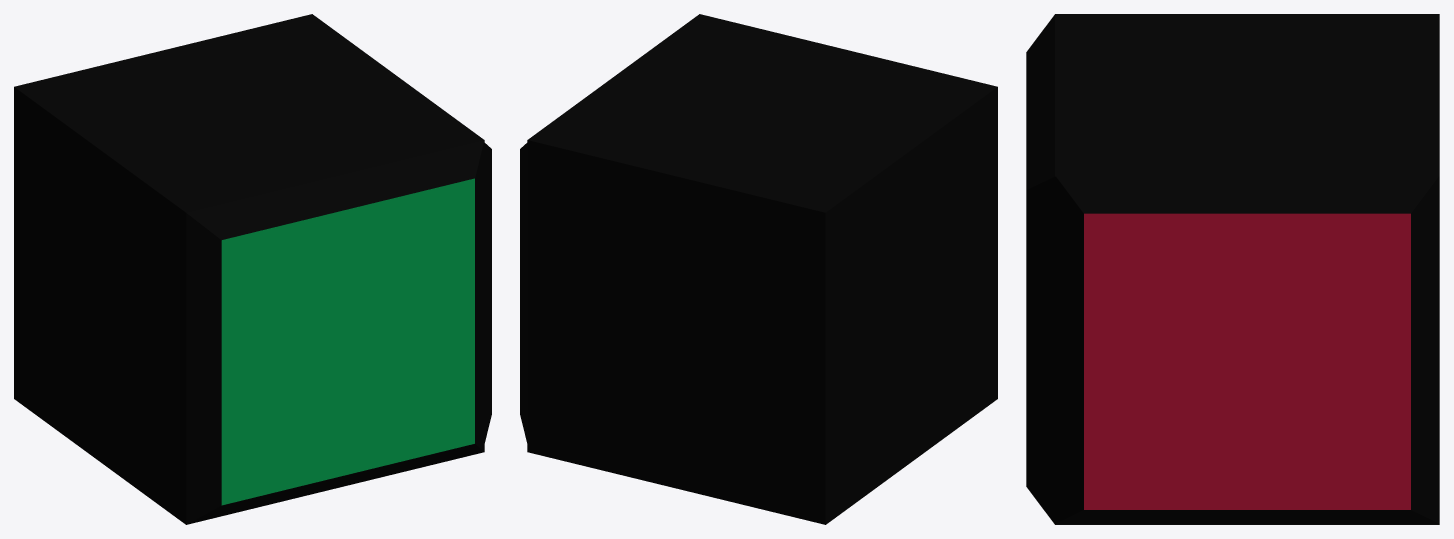
File: rubiks_cube_4.glb
3 views of the same model, side by side, from view 1: azimuth 30°, elevation 25°; view 2: azimuth 150°, elevation 25°; view 3: azimuth 270°, elevation 25° (orthographic). The views are drawn at different scales.
Visible parts, largest first — view 1: Cube4.001; view 2: Cube4.001; view 3: Cube4.001.
Boxes of the visible parts, <box> form: Cube4.001: <box>14,14,491,524</box>; Cube4.001: <box>520,14,997,524</box>; Cube4.001: <box>1026,14,1439,524</box>.
Bounding box in the file's own units: 2.14 × 2 × 2.15.
